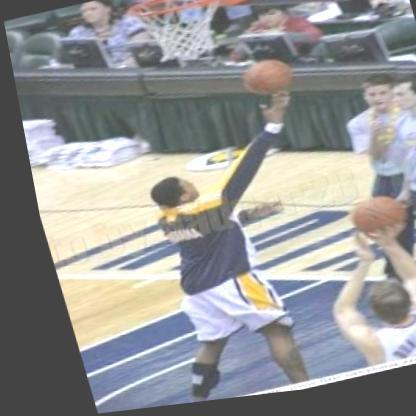basketball: (229, 53, 301, 113), (332, 194, 405, 250)
